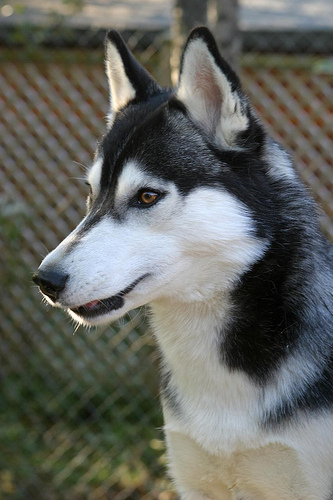dog: (28, 26, 331, 498)
